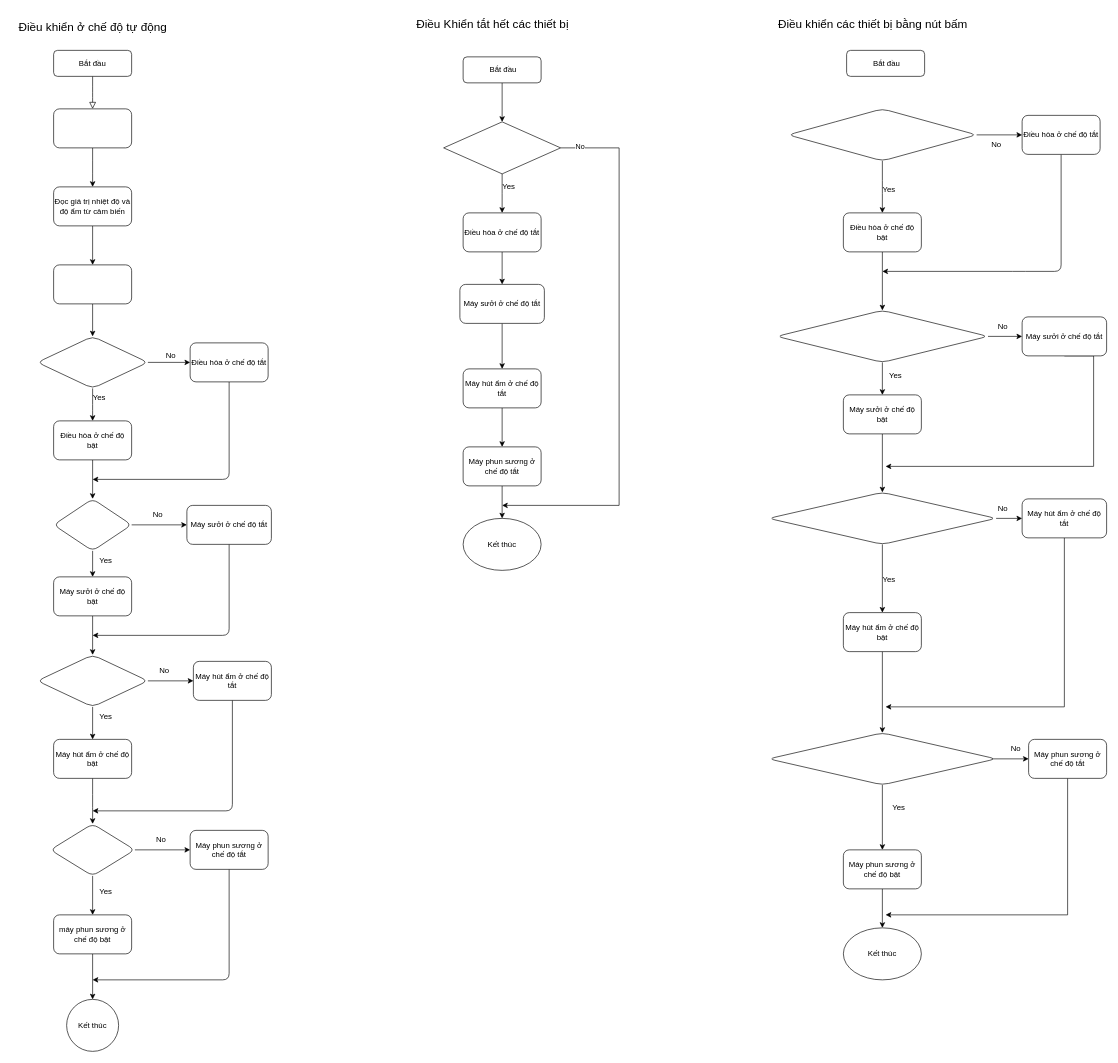
Some shapes in this 1118 by 1063 pixel diagram are drawn without their labels. Each missing label, with the box of its shape:
Gửi giá trị nhiệt độ và độ ẩm đến Blynk: (53, 264, 132, 304)
Kết nối Blynk và wifi: (53, 108, 132, 148)
nhiệt độ 16*C: (53, 498, 132, 551)
nhiệt độ trên 30 *C: (37, 336, 148, 388)
Nút trên app được bật: (443, 121, 561, 174)
Nút điều khiển máy hút ẩm trên app được bật: (768, 492, 996, 544)
Nút điều khiển máy phun sương trên app được bật: (768, 732, 996, 785)
Nút điều khiển máy sưởi trên app được bật: (776, 310, 988, 362)
Nút điều khiển điều hòa trên app được bật: (787, 108, 977, 161)
Độ ẩm lớn hơn 80%: (37, 654, 148, 707)
Độ ẩm nhỏ hơn 35%: (50, 823, 135, 876)
